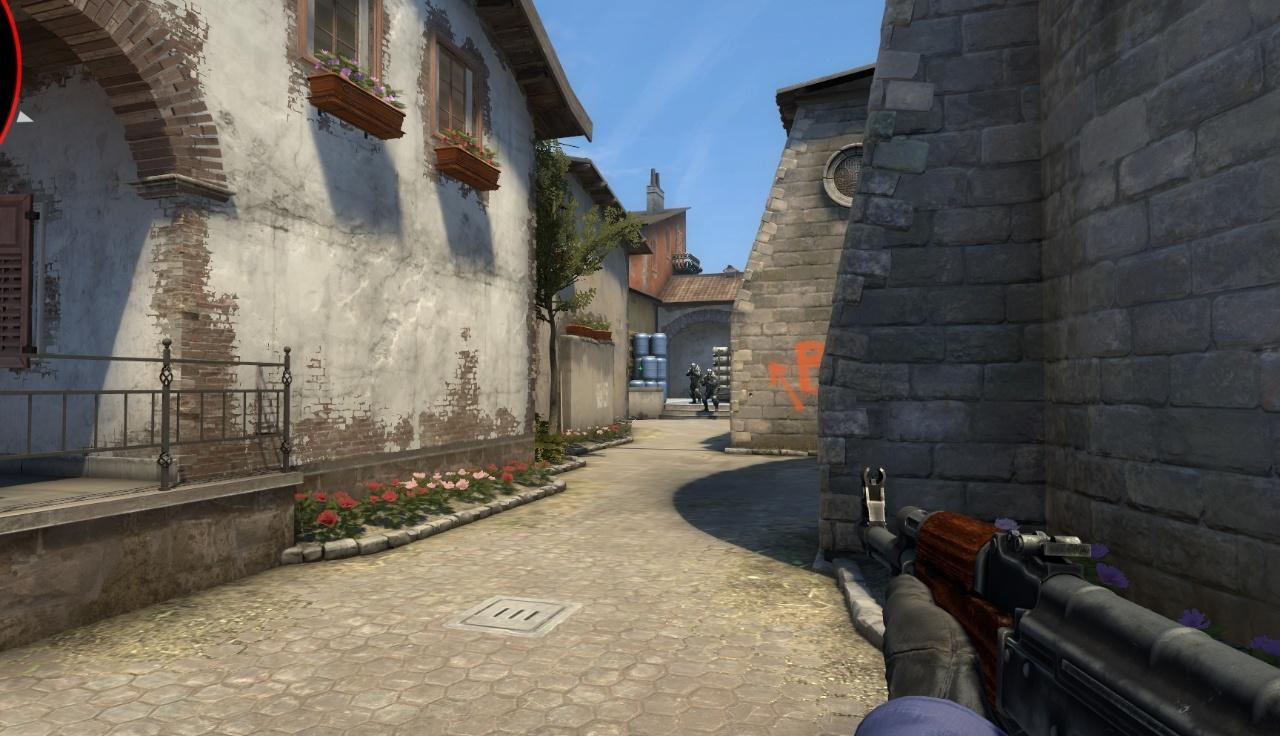ct: (704, 369, 718, 411), (689, 363, 703, 404)
cthead: (706, 369, 713, 377), (691, 364, 697, 372)
rifle: (856, 466, 1280, 736)
